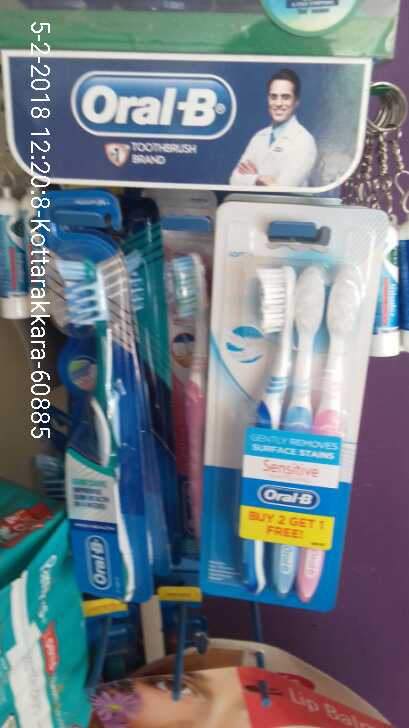oralb: (191, 200, 358, 611), (48, 212, 159, 601)
